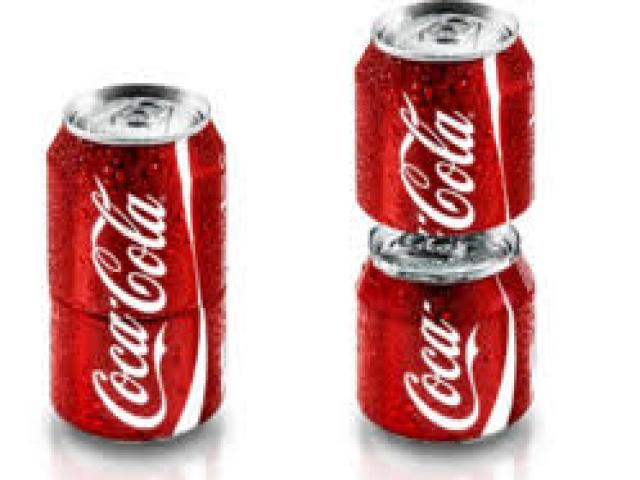Canned_drinks: (44, 83, 226, 441), (355, 6, 535, 233), (355, 225, 535, 444)
